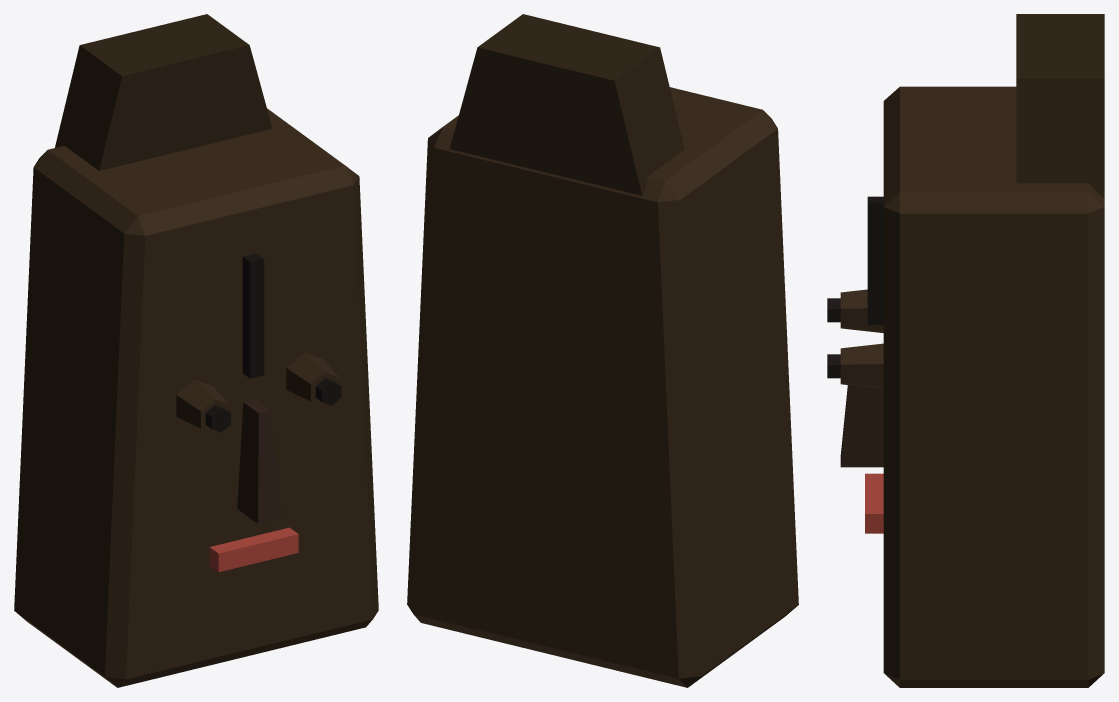
The model's file is wall-mask-27.glb.
3 renders of one model, left to right at view 1: azimuth 30°, elevation 25°; view 2: azimuth 150°, elevation 25°; view 3: azimuth 270°, elevation 25°, orthographic. The views are drawn at different scales.
Parts seen in each view (by area): view 1: wall_mask_27; view 2: wall_mask_27; view 3: wall_mask_27.
Boxes of the visible parts, bbox=[...] form: wall_mask_27: bbox=[14, 14, 378, 687]; wall_mask_27: bbox=[407, 14, 798, 687]; wall_mask_27: bbox=[827, 14, 1104, 687].
Size of the model in its own units: 0.2453 by 0.4758 by 0.2066.
